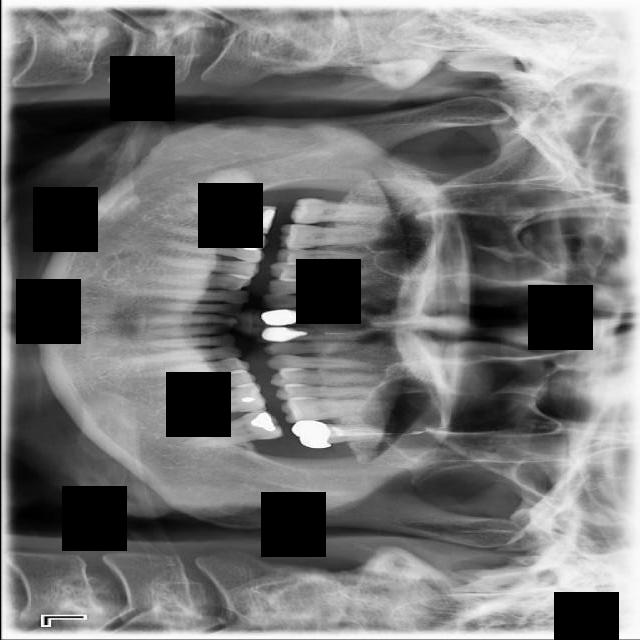52: (238, 403, 286, 449), (224, 379, 270, 419), (230, 227, 270, 267), (290, 418, 333, 449), (242, 200, 276, 237), (260, 325, 301, 343), (260, 310, 302, 325)
73: (178, 196, 253, 229), (326, 419, 407, 445), (288, 327, 378, 341), (295, 308, 371, 324), (96, 582, 114, 590)
BioHorizons Implant: (289, 419, 409, 455)
Blue Sky Bio Implant: (182, 406, 285, 453)
Caries: (289, 198, 401, 225)
Implant: (178, 200, 276, 236)
Keystone Dental Implant: (197, 168, 257, 207)
